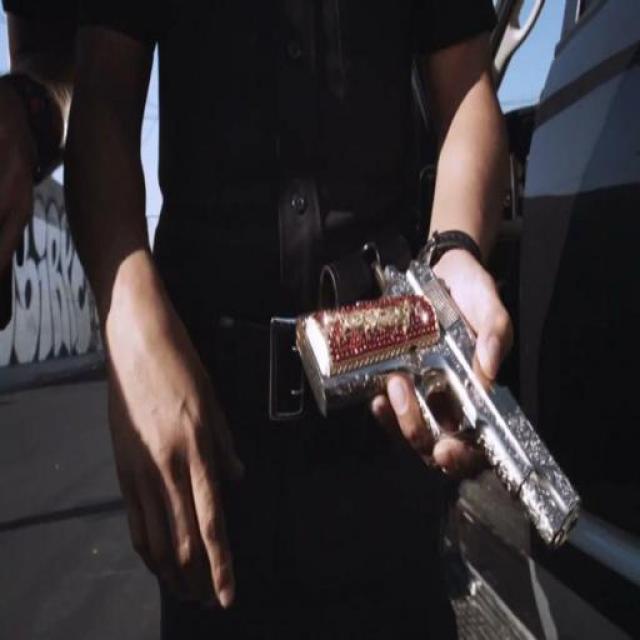pistol: (289, 238, 589, 569)
